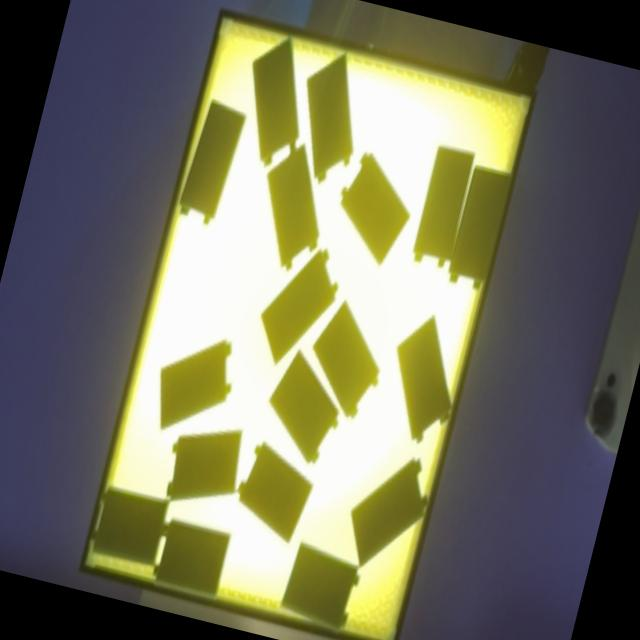bateria: (260, 249, 336, 364), (179, 99, 245, 224), (351, 458, 427, 566), (340, 151, 410, 266), (312, 300, 379, 418), (268, 350, 337, 464), (448, 165, 511, 287), (237, 441, 312, 542), (412, 144, 474, 266), (395, 314, 450, 443), (266, 143, 320, 272), (281, 542, 359, 629), (160, 340, 230, 429), (90, 486, 168, 565), (153, 518, 230, 597), (307, 53, 353, 183), (251, 39, 297, 167), (166, 430, 241, 500)
mesa: (78, 7, 537, 640)
